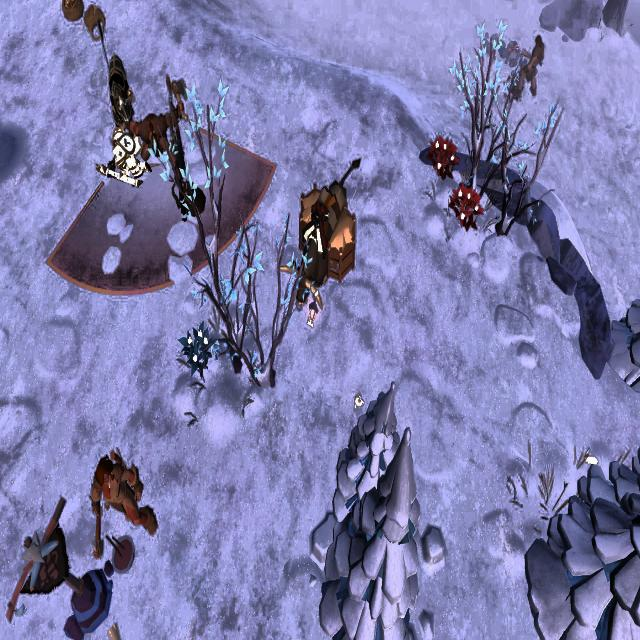enemy_factionKeeper: (89, 452, 162, 558)
fiber_t4: (180, 322, 214, 376)
fiber_t5: (449, 181, 485, 237), (428, 136, 458, 184)
